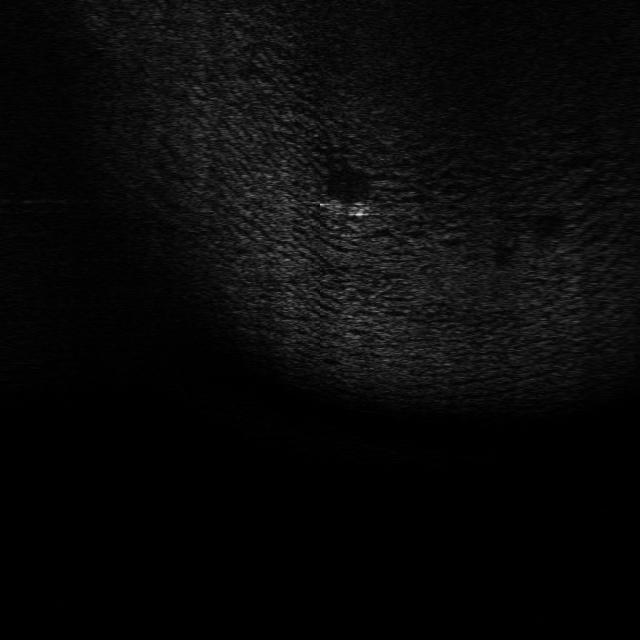plane: (322, 196, 369, 218)
